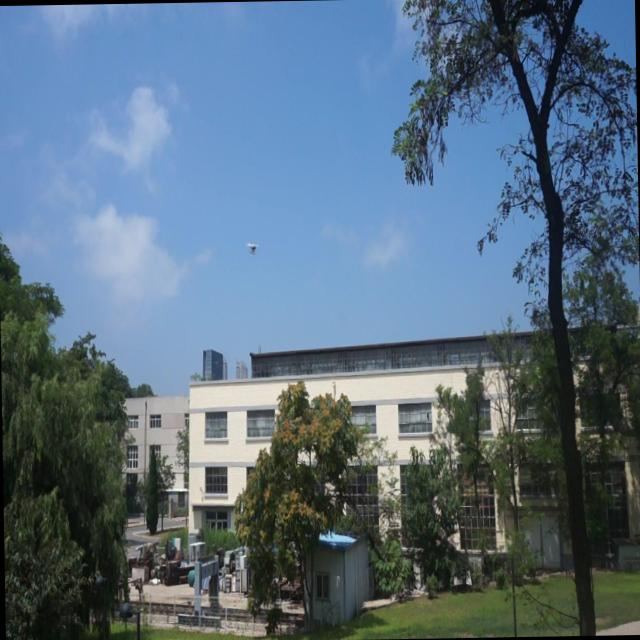drone: (243, 238, 260, 258)
